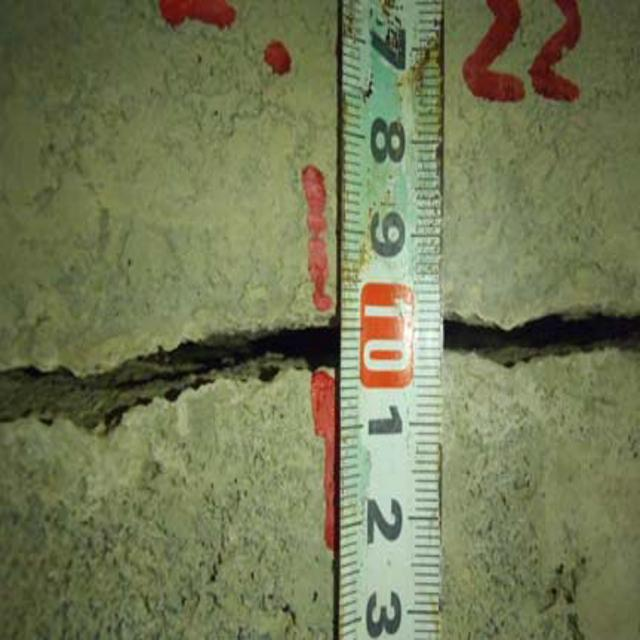crack: (0, 314, 344, 449), (451, 261, 640, 423)
